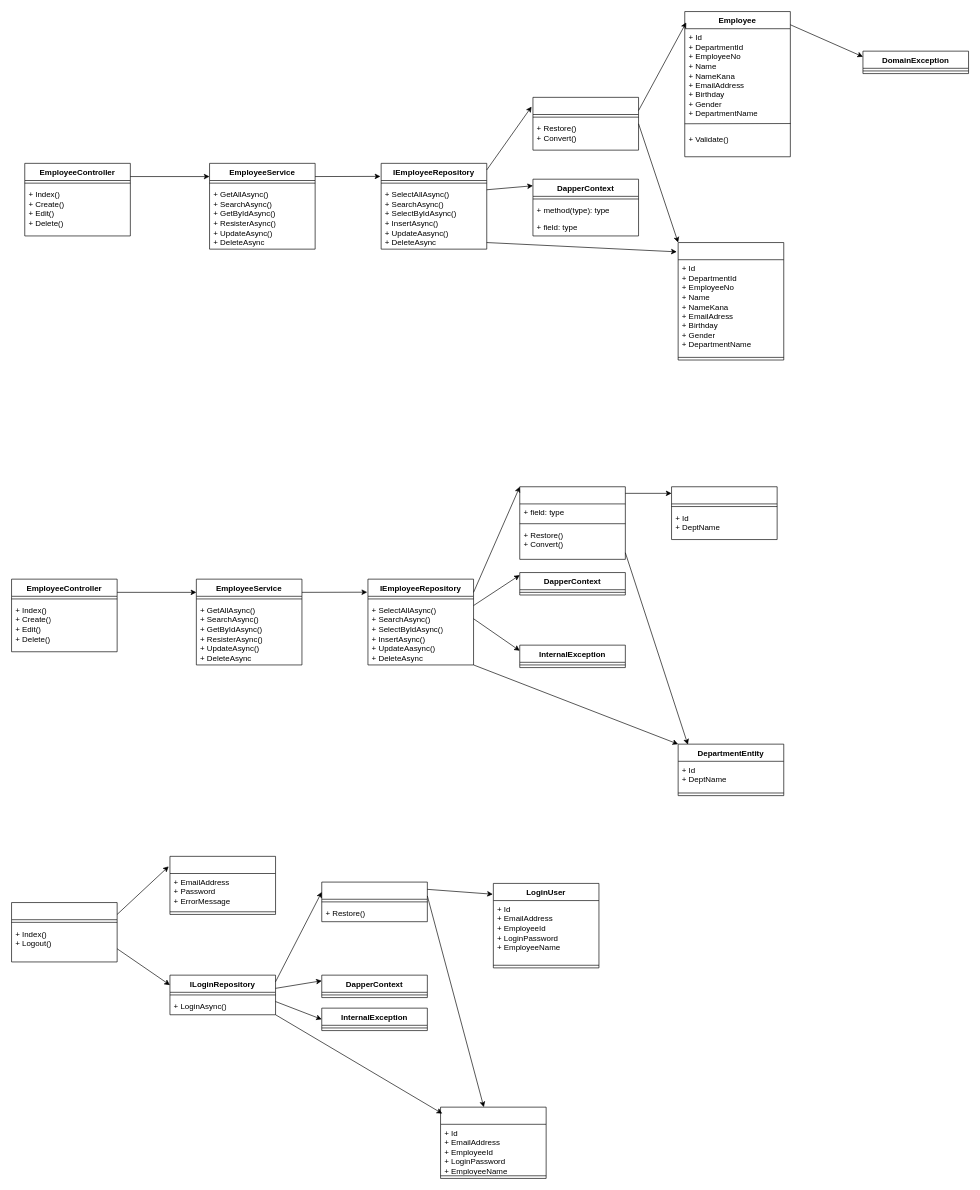
Image size: 980x1190. Some labels were removed from this diagram. Here are the shapes that lost their labels. From the top down, the box of each, then its label:
(532, 97, 639, 150): EmployeeEntityAdapter
(677, 242, 784, 360): EmployeeEntity
(519, 486, 625, 559): DepartmentEntityAdapter
(671, 486, 777, 540): Department
(169, 856, 276, 914): LoginViewModel
(321, 881, 427, 922): LoginEntityAdapter
(11, 902, 117, 962): LoginController
(440, 1106, 546, 1178): LoginEntity
